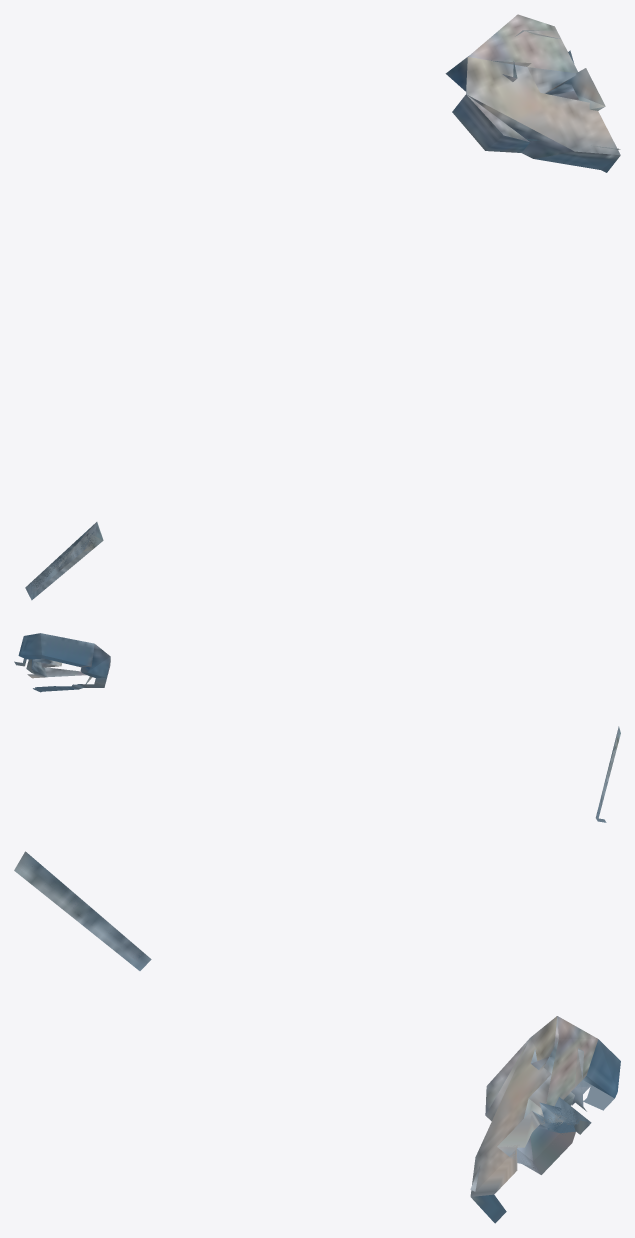
Rendered from AJVsH2xCTpX3IEuwcIToodGpSZ1ZE5Hlk7l3Taap0AHNImtidd5d9Nh2KOUO9nToFSJts2z1sF1yVT84pxr-ESgHjTVsGrlqtSoH5veW80HVlxb8zU5mhdeQfOfxJkxMCgiVkpRvhgD4LZDmZCdlFR7Dw2LmgiivIw.glb.
The picture shows the model from 3 angles, top to bottom: view 1: azimuth 30°, elevation 25°; view 2: azimuth 150°, elevation 25°; view 3: azimuth 270°, elevation 25°; orthographic projection. The views are drawn at different scales.
Size of the model in its own units: 217 by 76.35 by 131.
1 material, 1 textured.
